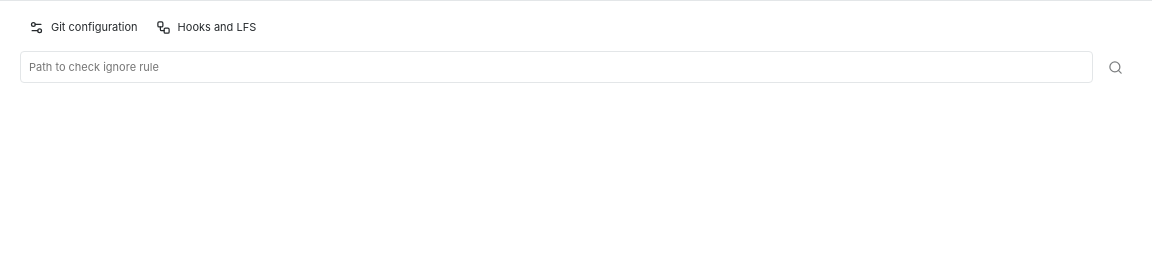
Test: shows hook files, LFS declarations and inventory warnings on request
Click the button "Hooks and LFS" at (206, 27), box [147,11,265,43]
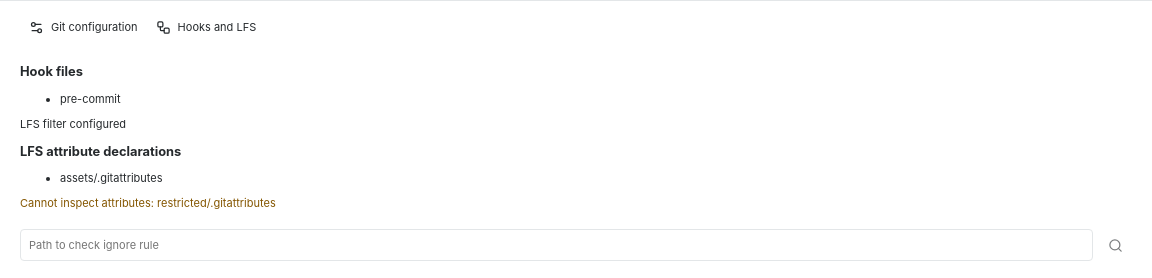
Check: the list item "pre-commit" is shown, box [60,92,121,106]
Check: the text "LFS filter configured" is shown, box [20,117,126,131]
Check: the list item "assets/.gitattributes" is shown, box [60,171,162,185]
